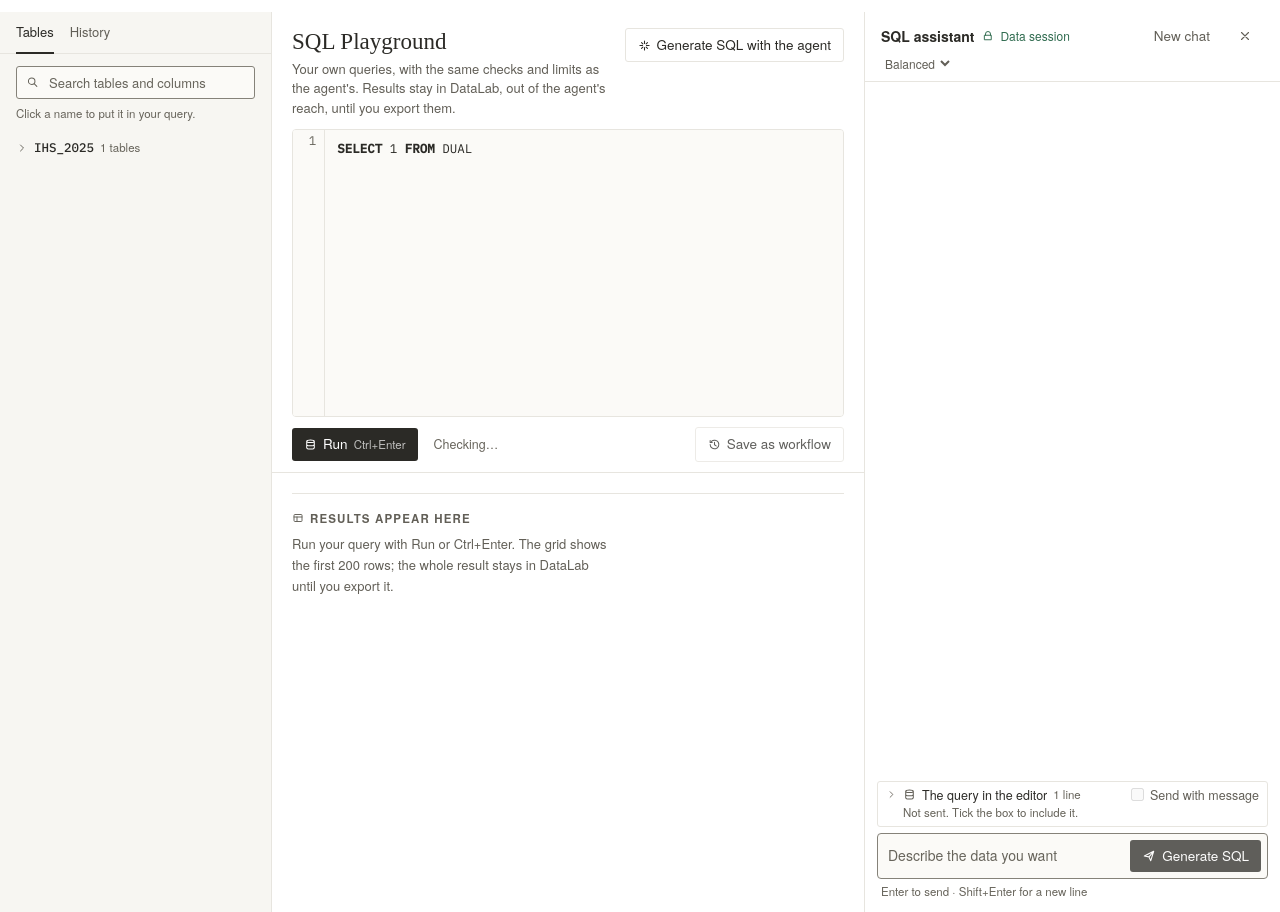
Test: opens a query from history, with its SQL and result
Click the tab "History" at point(90, 33), box [70,12,110,54]
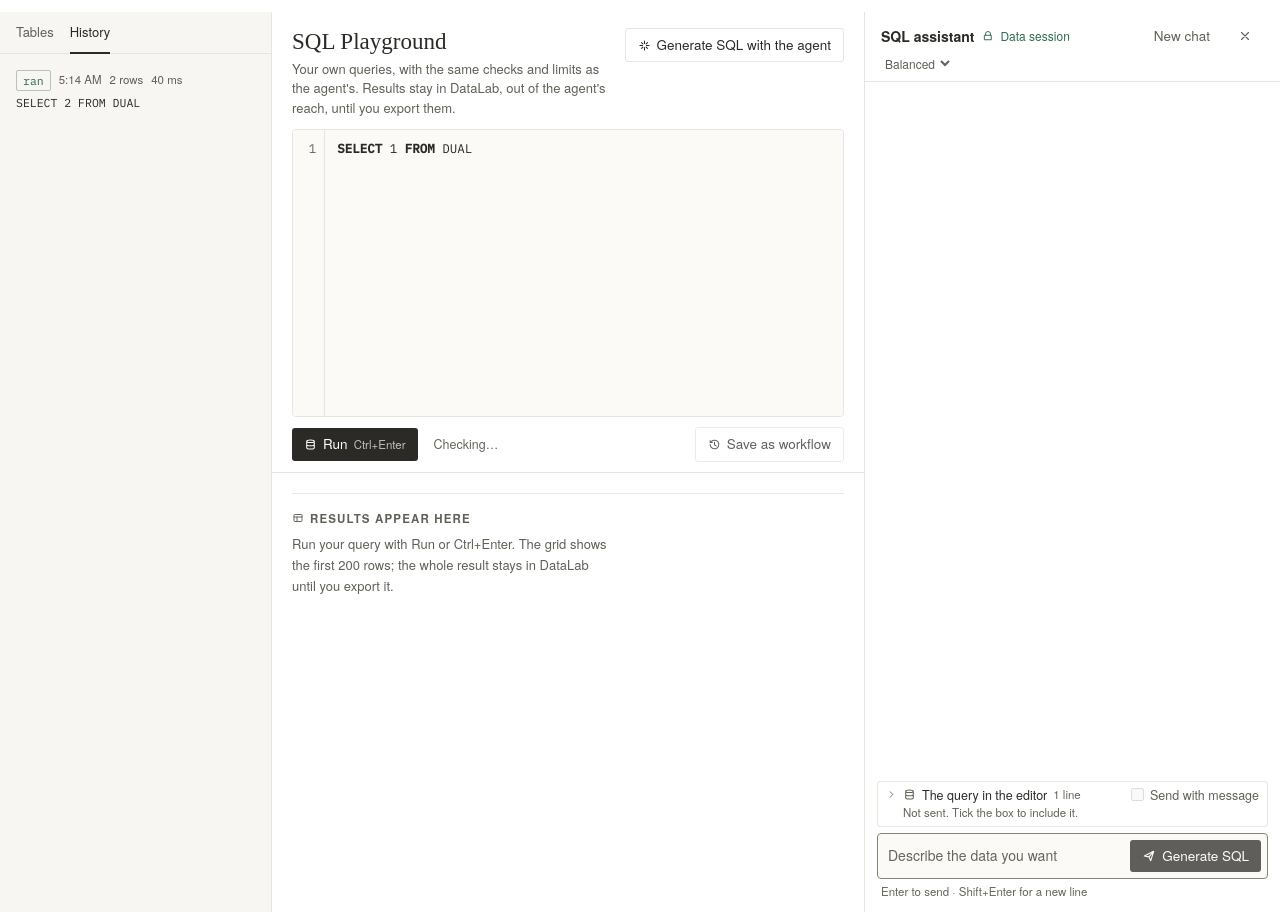
Click the text "SELECT 2 FROM DUAL" at point(78, 102), box [16,94,140,110]
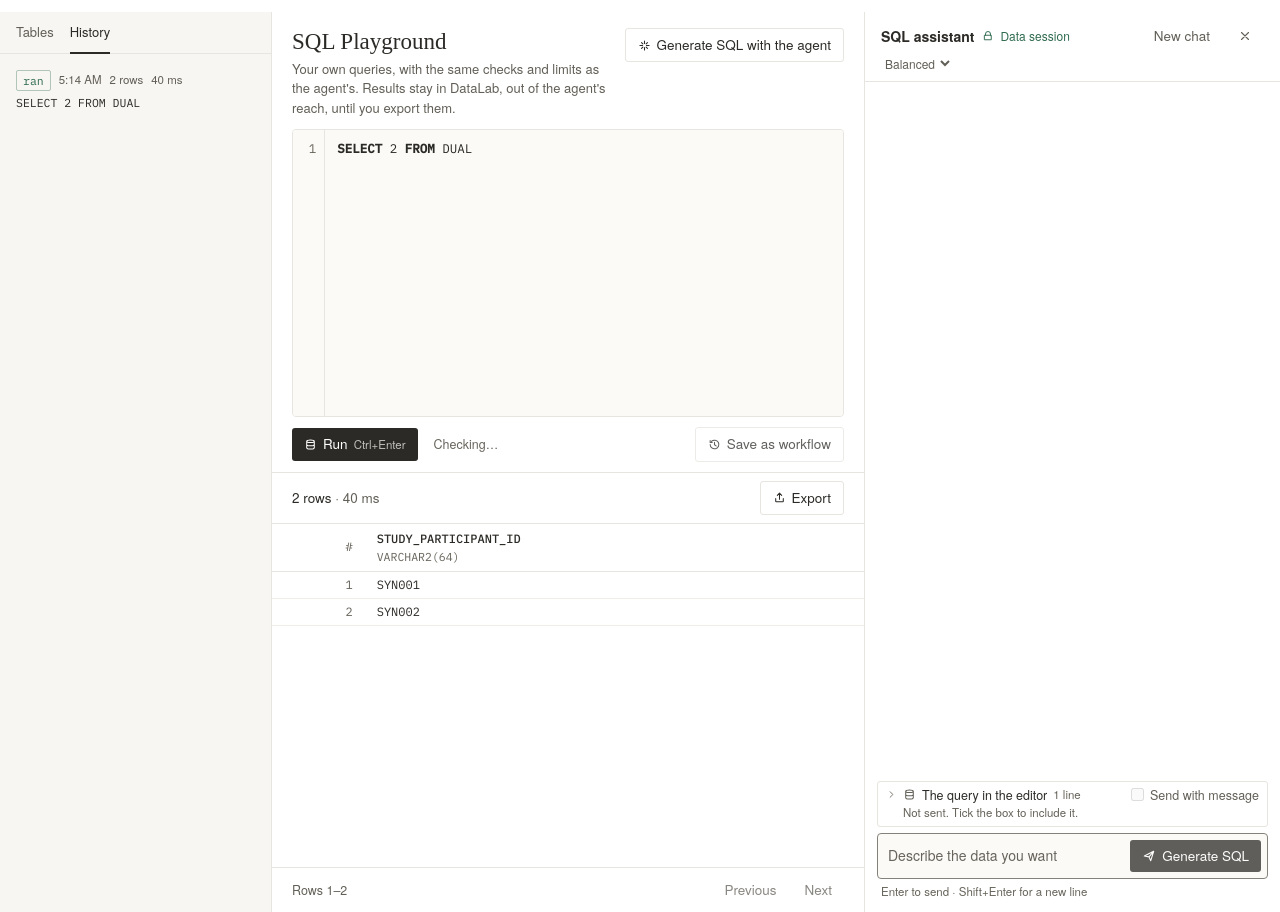
Expected: the text "SELECT 2 FROM DUAL" is shown, [16,94,140,110]
Expected: the text "SYN001" is shown, [365,572,864,599]
